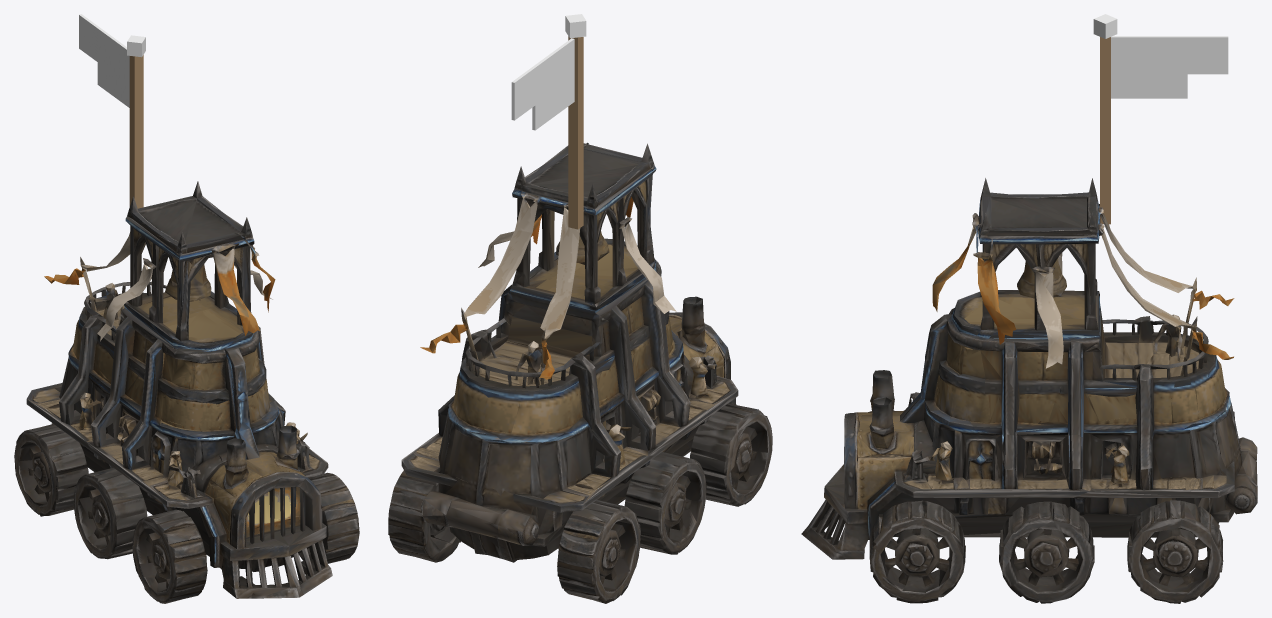
Rendered from dune_sand_engine.glb.
3 views of the same model, side by side, from view 1: azimuth 30°, elevation 25°; view 2: azimuth 150°, elevation 25°; view 3: azimuth 270°, elevation 25° (orthographic). The views are drawn at different scales.
Parts seen in each view (by area): view 1: dune_sand_engine, Team_pennant; view 2: dune_sand_engine, Team_pennant; view 3: dune_sand_engine, Team_pennant.
Boxes of the visible parts, x1,y1,x2,y2 form: dune_sand_engine: (14,181,359,603); Team_pennant: (79,14,145,208); dune_sand_engine: (388,142,772,603); Team_pennant: (511,14,586,229); dune_sand_engine: (801,178,1257,603); Team_pennant: (1093,14,1228,224).
Bounding box in the file's own units: 0.5023 × 1.25 × 0.9827.
3 materials, 1 textured.
